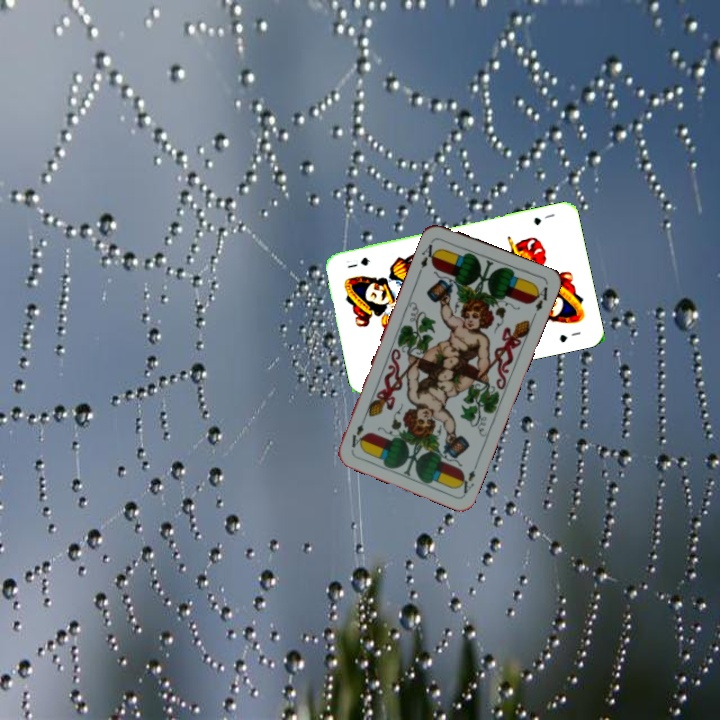EA: (455, 458, 481, 496), (416, 237, 441, 271)
GU: (530, 209, 557, 228)
